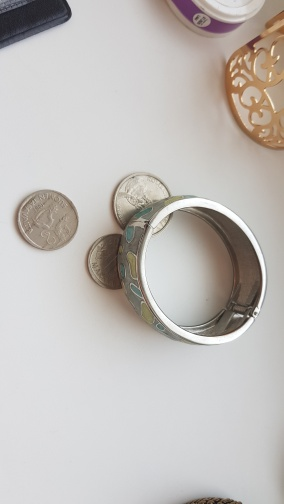coin: (15, 188, 80, 252), (111, 172, 174, 235), (85, 234, 123, 290)
